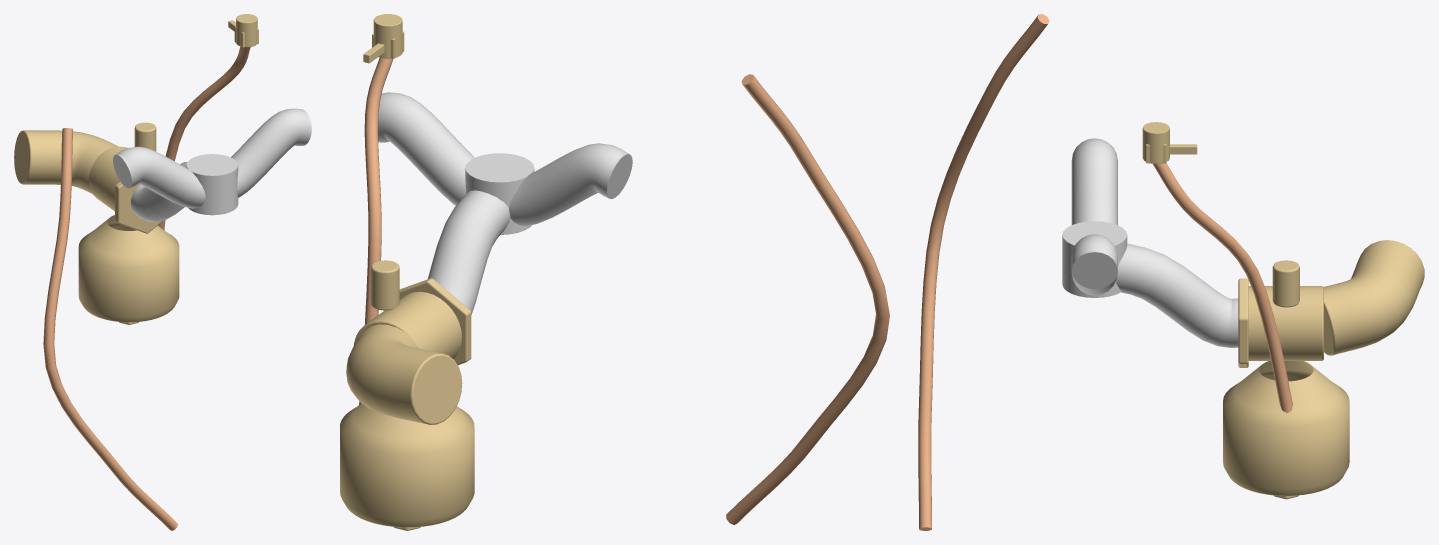
The model's file is bike_vintage_vtwin__carb.glb.
3 views of the same model, side by side, from view 1: azimuth 30°, elevation 25°; view 2: azimuth 150°, elevation 25°; view 3: azimuth 270°, elevation 25° (orthographic). The views are drawn at different scales.
Parts seen in each view (by area): view 1: powertrain__intake__carburettor, powertrain__intake__manifold, powertrain__fuel_system__lines, powertrain__fuel_system__tap; view 2: powertrain__intake__carburettor, powertrain__intake__manifold, powertrain__fuel_system__lines, powertrain__fuel_system__tap; view 3: powertrain__intake__carburettor, powertrain__intake__manifold, powertrain__fuel_system__lines, powertrain__fuel_system__tap.
Part boxes in pixels (left/top/right/bottom): powertrain__intake__carburettor: left=14, top=122, right=179, bottom=324; powertrain__intake__manifold: left=113, top=108, right=311, bottom=221; powertrain__fuel_system__lines: left=43, top=46, right=250, bottom=530; powertrain__fuel_system__tap: left=228, top=14, right=258, bottom=47; powertrain__intake__carburettor: left=340, top=260, right=474, bottom=530; powertrain__intake__manifold: left=378, top=92, right=632, bottom=314; powertrain__fuel_system__lines: left=359, top=57, right=889, bottom=524; powertrain__fuel_system__tap: left=363, top=14, right=404, bottom=63; powertrain__intake__carburettor: left=1223, top=240, right=1424, bottom=499; powertrain__intake__manifold: left=1062, top=138, right=1238, bottom=347; powertrain__fuel_system__lines: left=918, top=14, right=1292, bottom=530; powertrain__fuel_system__tap: left=1142, top=122, right=1197, bottom=163.
Bounding box in the file's own units: 27.26 × 32.7 × 29.64.
